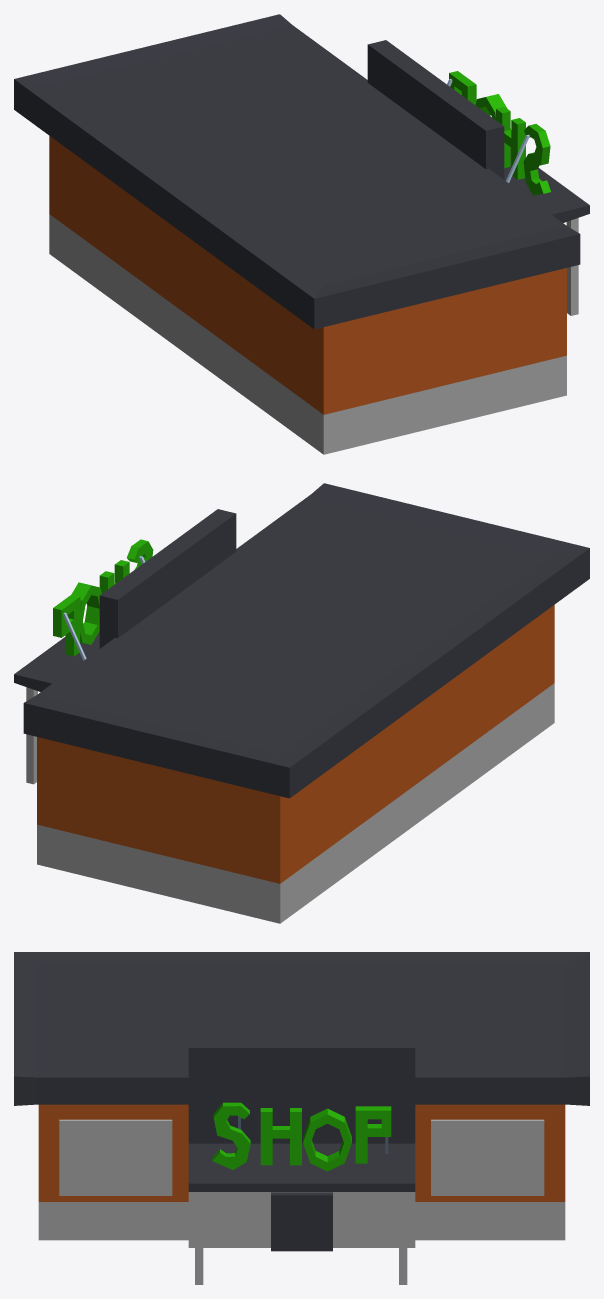
The model's file is Shop.fbx.
The picture shows the model from 3 angles, top to bottom: view 1: azimuth 30°, elevation 25°; view 2: azimuth 150°, elevation 25°; view 3: azimuth 270°, elevation 25°; orthographic projection. The views are drawn at different scales.
Parts seen in each view (by area): view 1: Coop; view 2: Coop; view 3: Coop.
Part boxes in pixels (x1=…): Coop: x1=14, y1=14, x2=589, y2=454; Coop: x1=14, y1=483, x2=589, y2=923; Coop: x1=14, y1=952, x2=589, y2=1284.
Size of the model in its own units: 824 by 449 by 1169.
